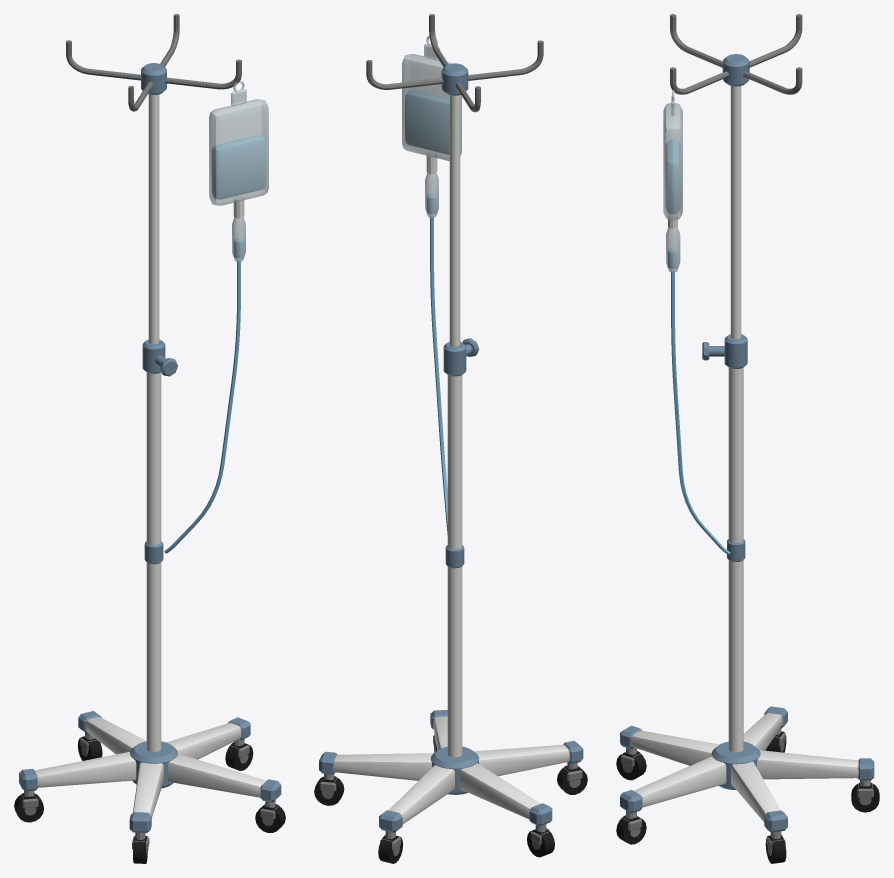
Rendered from IVStand.fbx.
3 views of the same model, side by side, from view 1: azimuth 30°, elevation 25°; view 2: azimuth 150°, elevation 25°; view 3: azimuth 270°, elevation 25° (orthographic).
Visible parts, largest first — view 1: IVStand_Mesh; view 2: IVStand_Mesh; view 3: IVStand_Mesh.
Part boxes in pixels (left/top/right/bottom): IVStand_Mesh: left=14, top=14, right=285, bottom=863; IVStand_Mesh: left=314, top=14, right=587, bottom=863; IVStand_Mesh: left=616, top=14, right=879, bottom=863.
Size of the model in its own units: 0.6211 by 1.9 by 0.5907.
